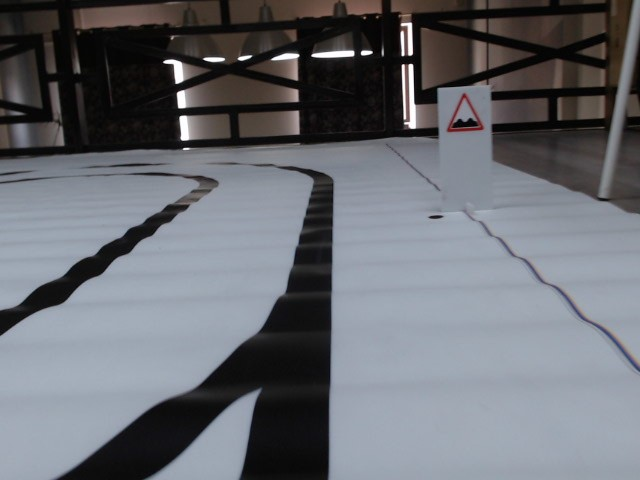Nerov: (445, 92, 487, 135)
